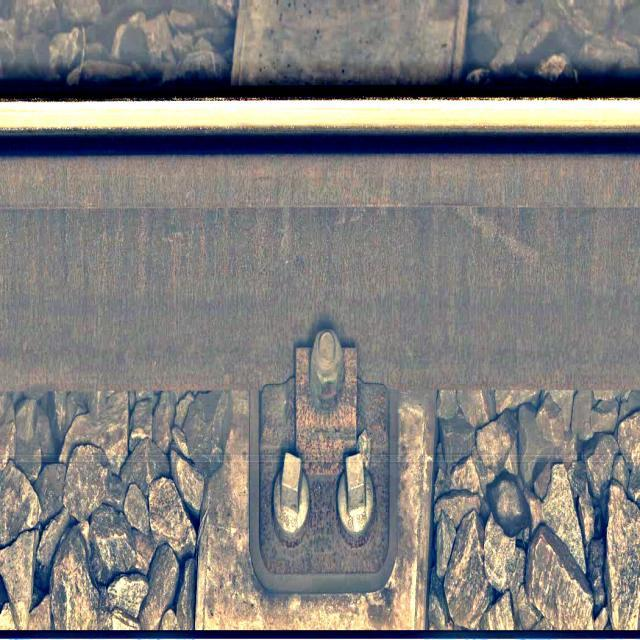Good Fasteners: (251, 330, 394, 594)
